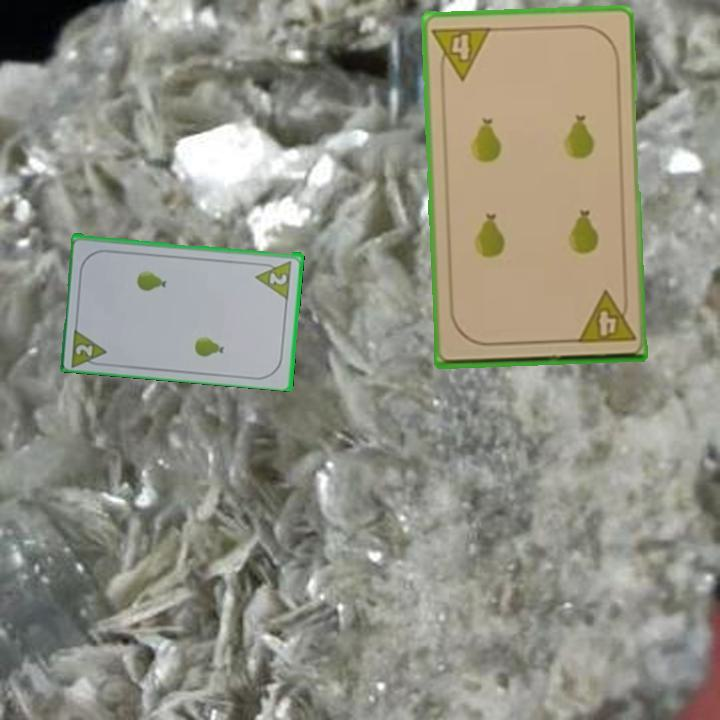2p: (68, 323, 110, 368), (266, 269, 290, 288)
4p: (429, 22, 494, 83), (573, 288, 638, 346)
